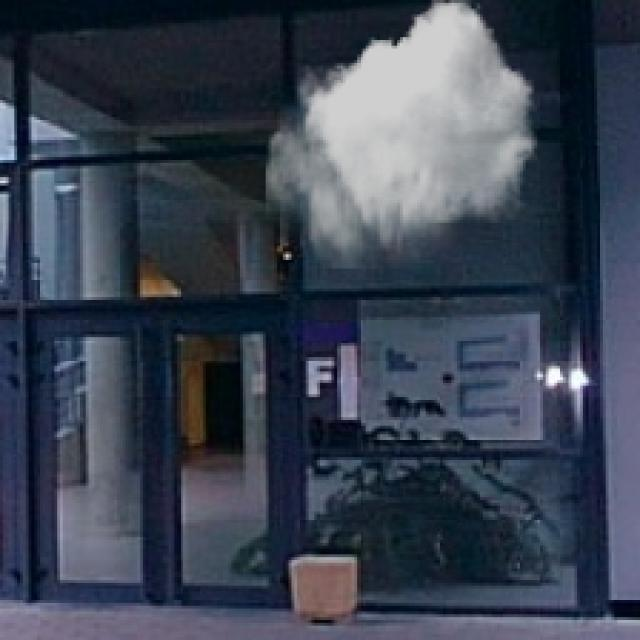Smoke: (266, 0, 538, 269)
